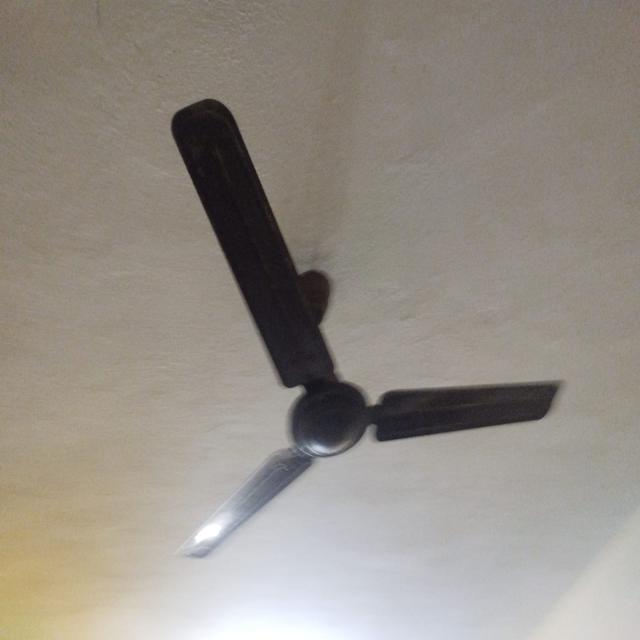fan_off: (171, 96, 567, 562)
